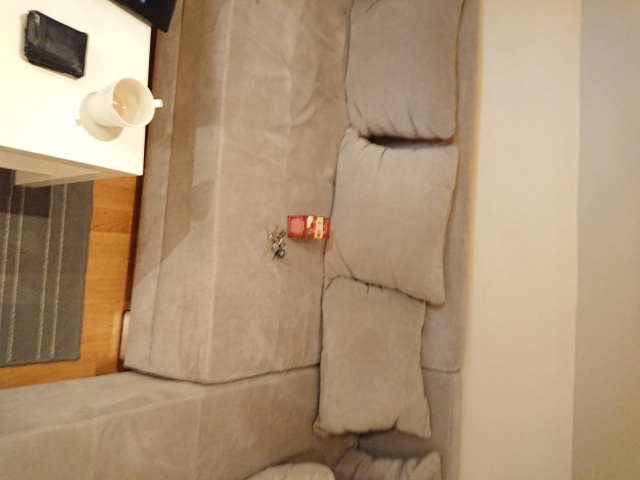Franck Apple Cinnamon Tea 60g: (284, 212, 332, 242)
